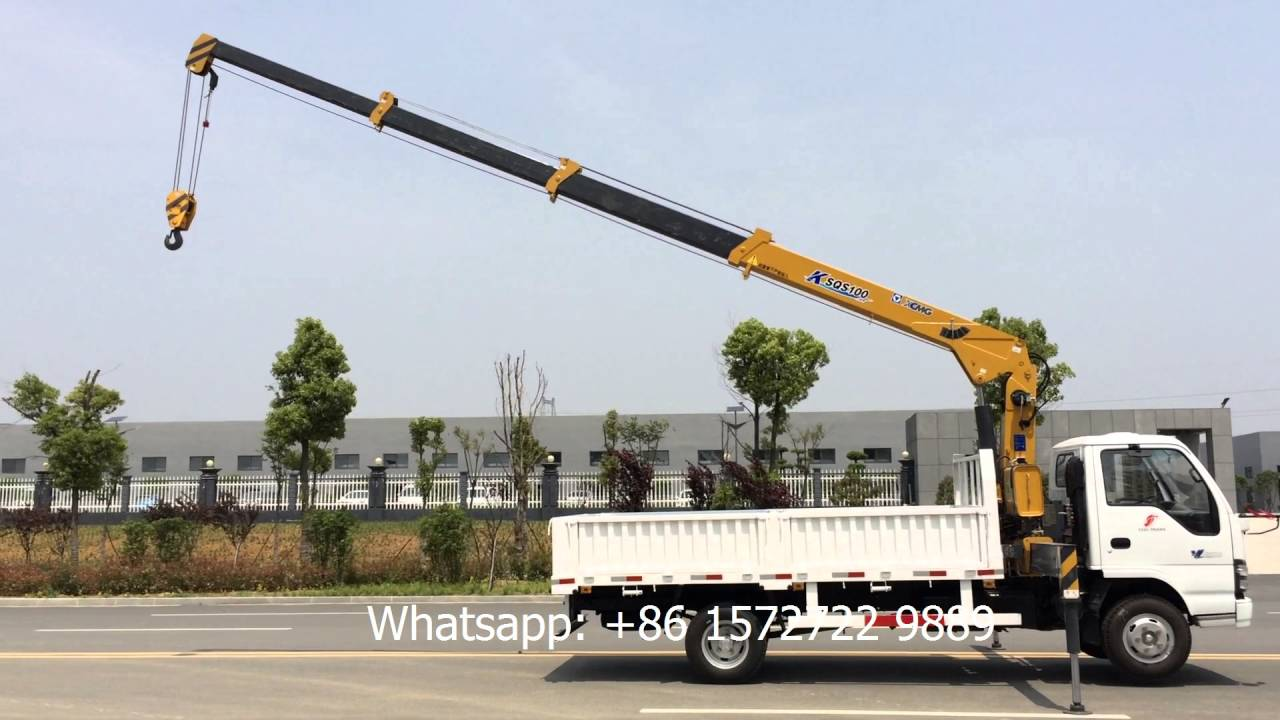crane: (167, 34, 1071, 472)
truck: (530, 415, 1260, 694)
